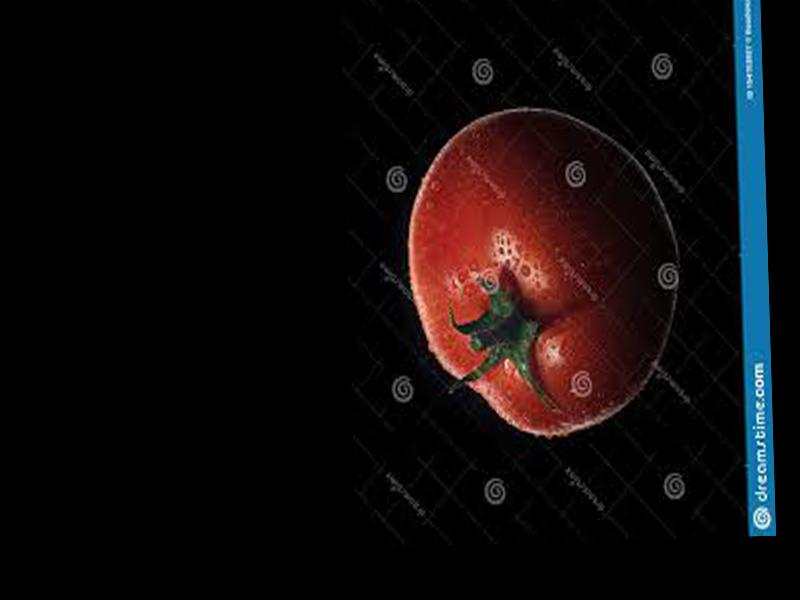Tomato: (403, 101, 681, 440)
